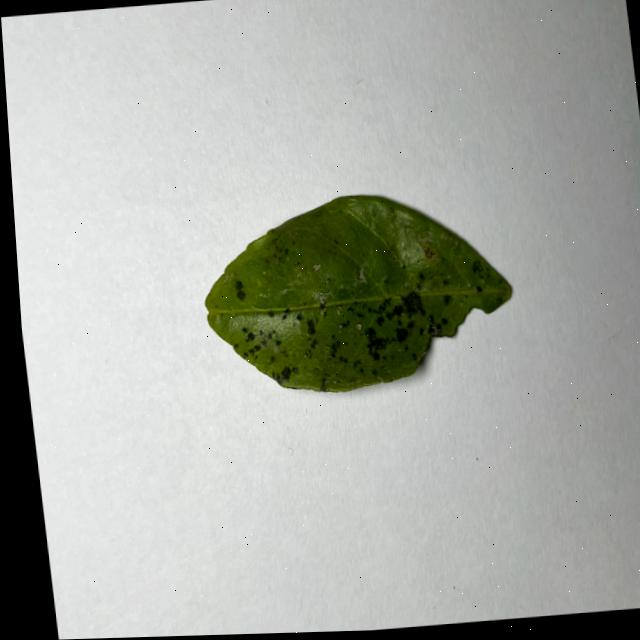sooty_mold: (205, 195, 510, 391)
